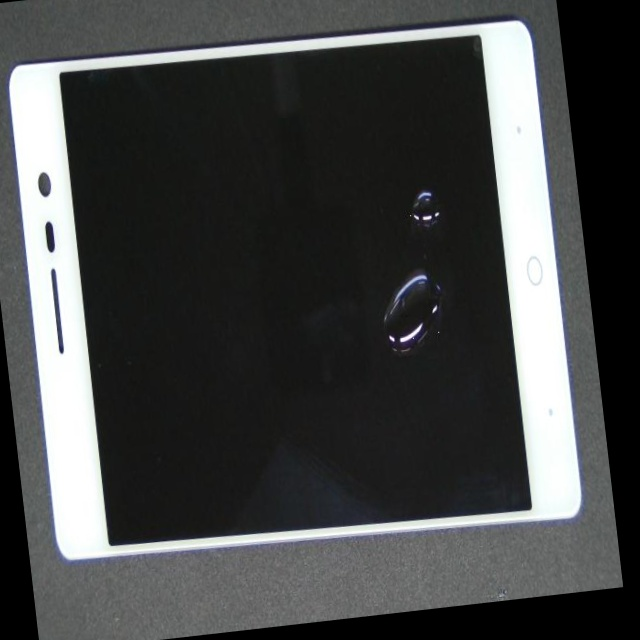oil: (169, 113, 600, 546), (211, 58, 587, 314)
